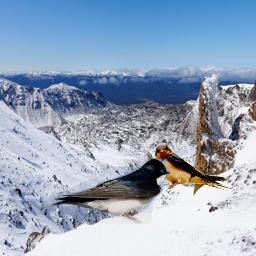Swallow: (51, 158, 170, 224), (152, 143, 235, 194)
